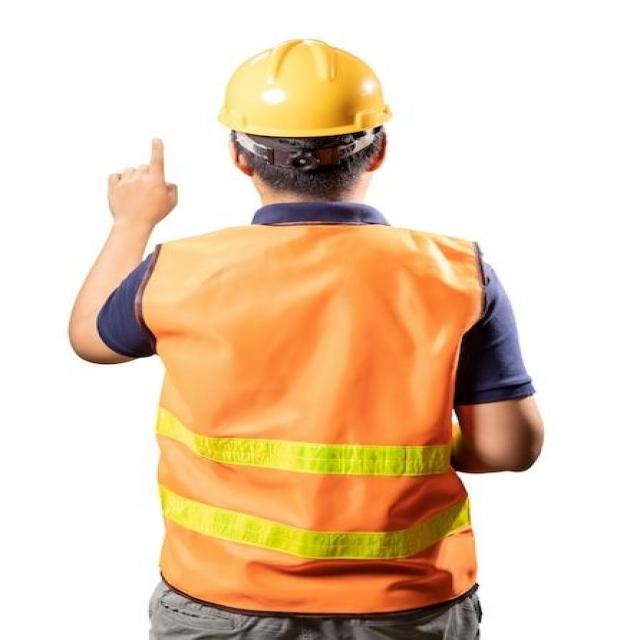Reflective-Jacket: (130, 216, 500, 616)
Safety-Helmet: (211, 34, 400, 142)
